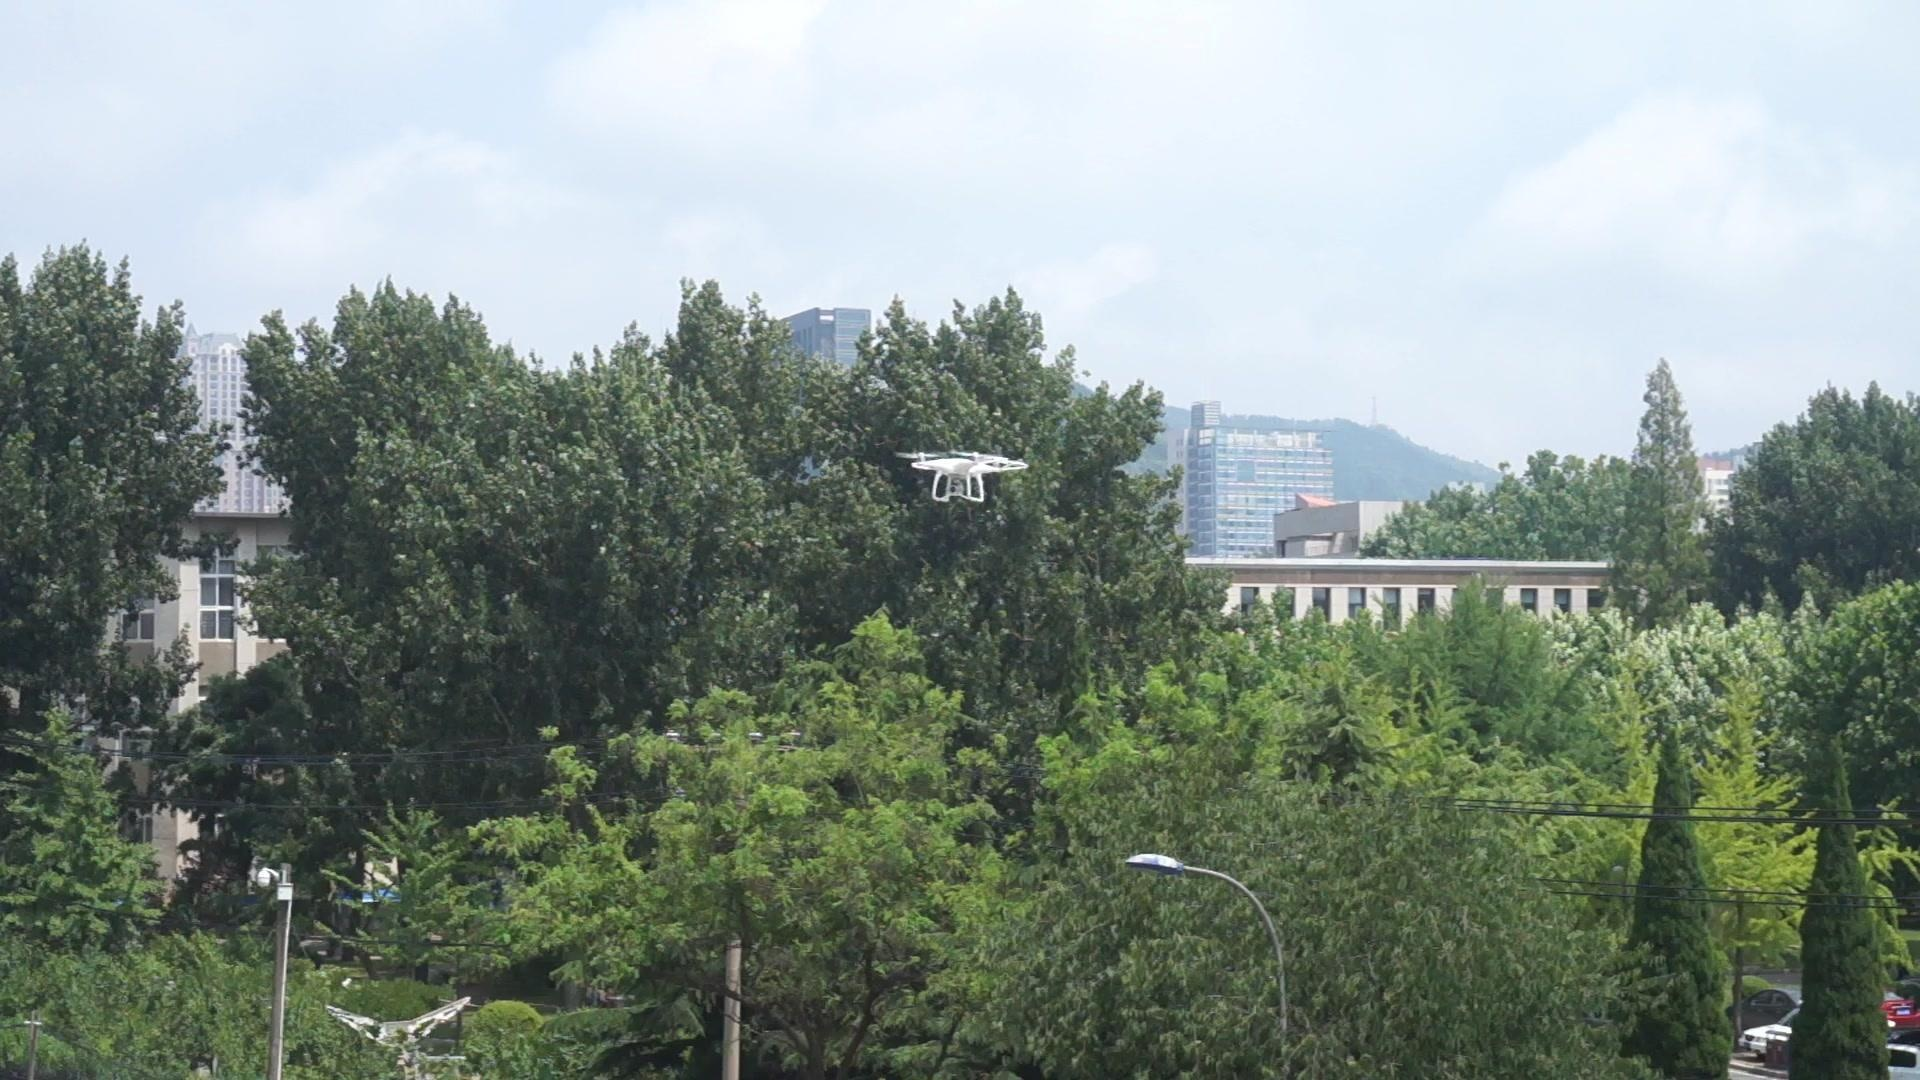UAV: (895, 450, 1030, 504)
